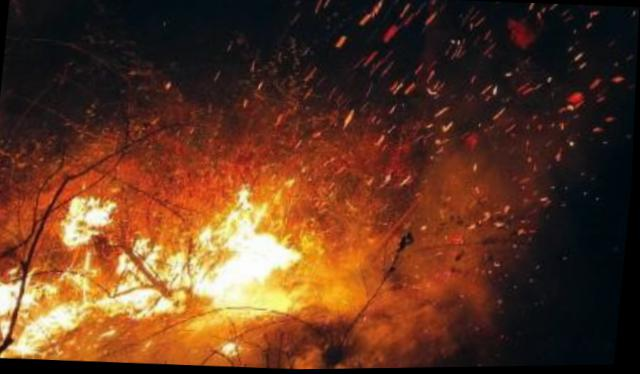fire: (0, 158, 321, 362)
